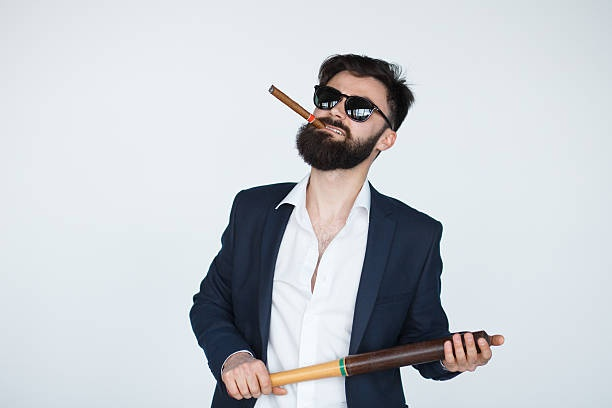bita: (265, 334, 488, 386)
